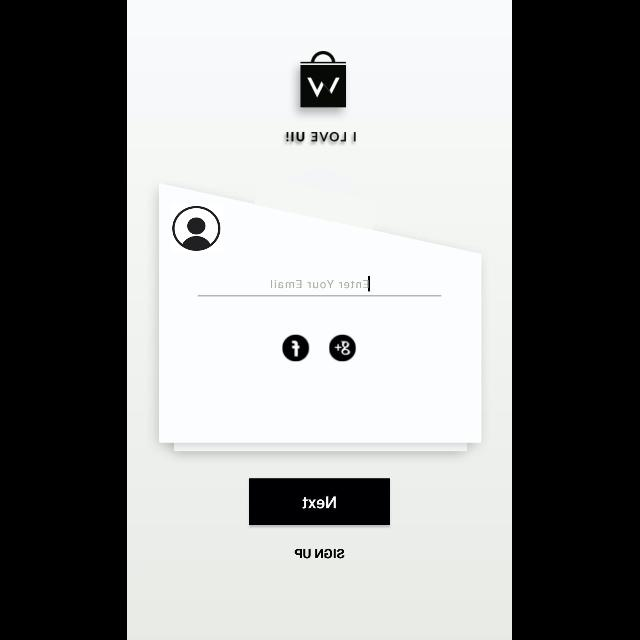icon: (173, 206, 221, 250), (282, 334, 310, 362), (329, 334, 356, 362)
image: (301, 52, 347, 108)
input: (198, 276, 442, 298)
text: (272, 280, 370, 288), (288, 132, 357, 142), (295, 548, 345, 558)
textbutton: (250, 478, 390, 526)
